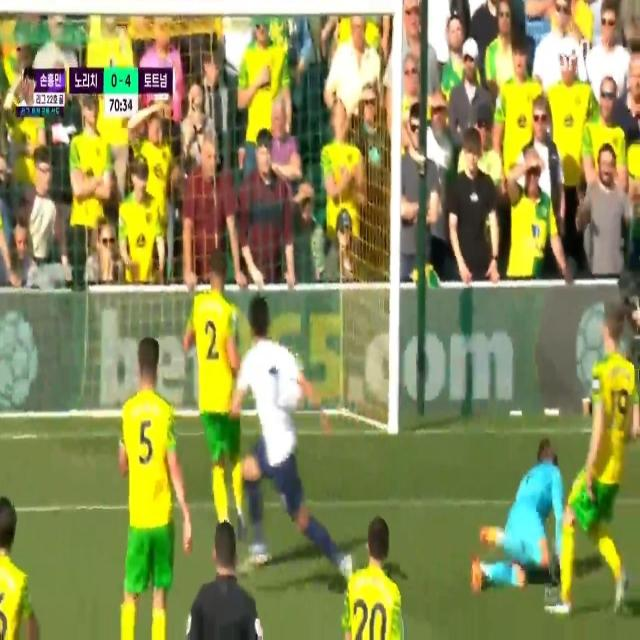player: (231, 300, 339, 562), (110, 316, 184, 636), (576, 287, 640, 640), (183, 253, 251, 545), (342, 502, 411, 640), (0, 486, 33, 640)
referee: (189, 526, 257, 640)
